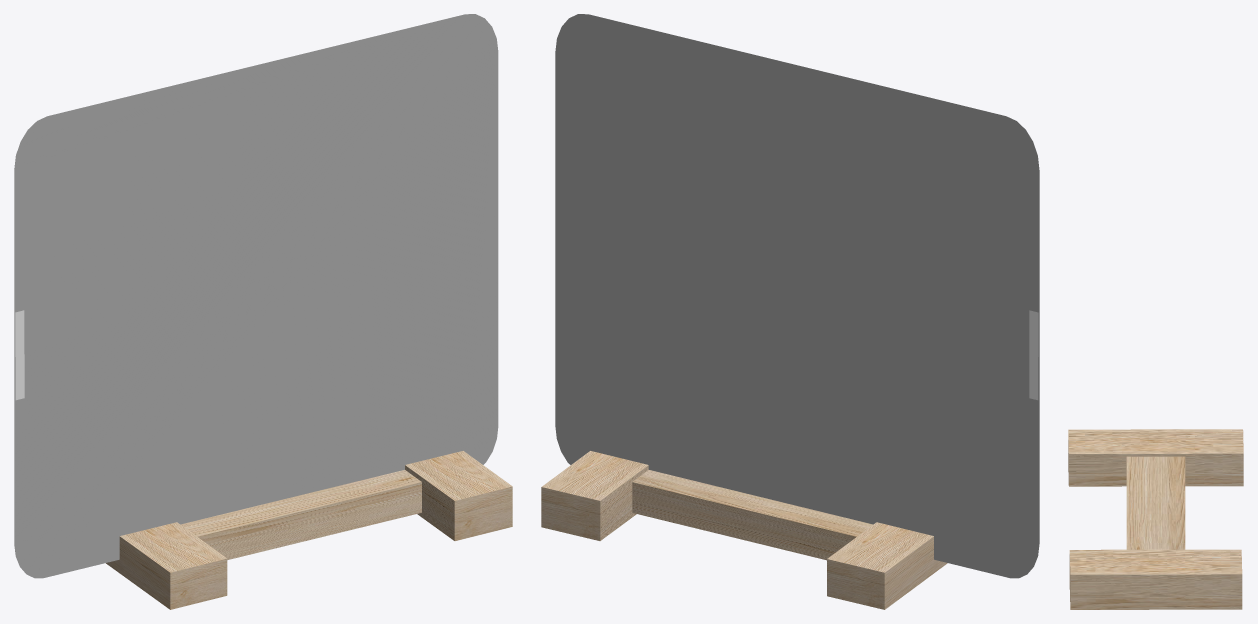
Rendered from Plexi.glb.
The picture shows the model from 3 angles, left to right: view 1: azimuth 30°, elevation 25°; view 2: azimuth 150°, elevation 25°; view 3: azimuth 270°, elevation 25°; orthographic projection. The views are drawn at different scales.
Parts seen in each view (by area): view 1: pCube1, pasted__pCube2, pasted__pCube2.001, pCube2; view 2: pCube1, pasted__pCube2, pasted__pCube2.001, pCube2; view 3: pCube2, pasted__pCube2.001, pasted__pCube2.
Part boxes in pixels (x1,y1,x2,y2): pCube1: (14,14,498,578); pasted__pCube2: (180,470,421,559); pasted__pCube2.001: (106,522,227,609); pCube2: (405,451,512,540); pCube1: (555,14,1039,578); pasted__pCube2: (632,470,872,560); pasted__pCube2.001: (827,522,947,609); pCube2: (541,451,648,540); pCube2: (1069,549,1242,609); pasted__pCube2.001: (1068,429,1243,486); pasted__pCube2: (1126,456,1185,549).
Size of the model in its own units: 159 by 150 by 57.32.
Materials: 4 (1 with a texture image).
